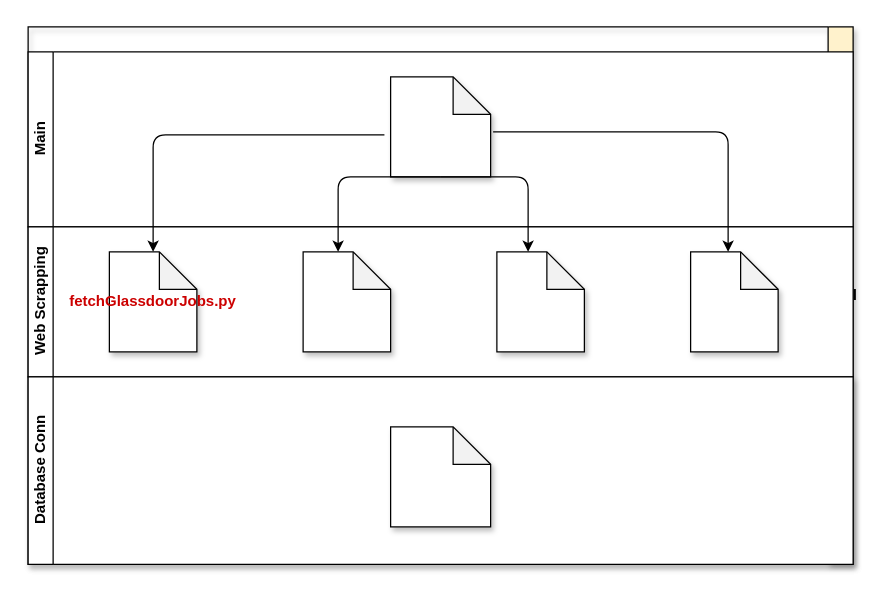
Image size: 883x595. Some labels were removed from this diagram. Each missing label, with the centre of its shape:
"dbConnection.py" belongs at [441,478].
"etlPrjMain.py" belongs at [441,128].
